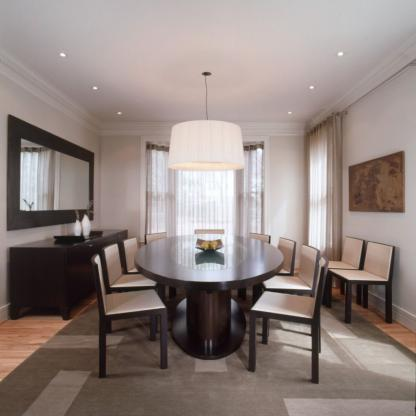kursi: (239, 260, 342, 385), (75, 252, 177, 365)
lampu: (168, 70, 250, 175)
